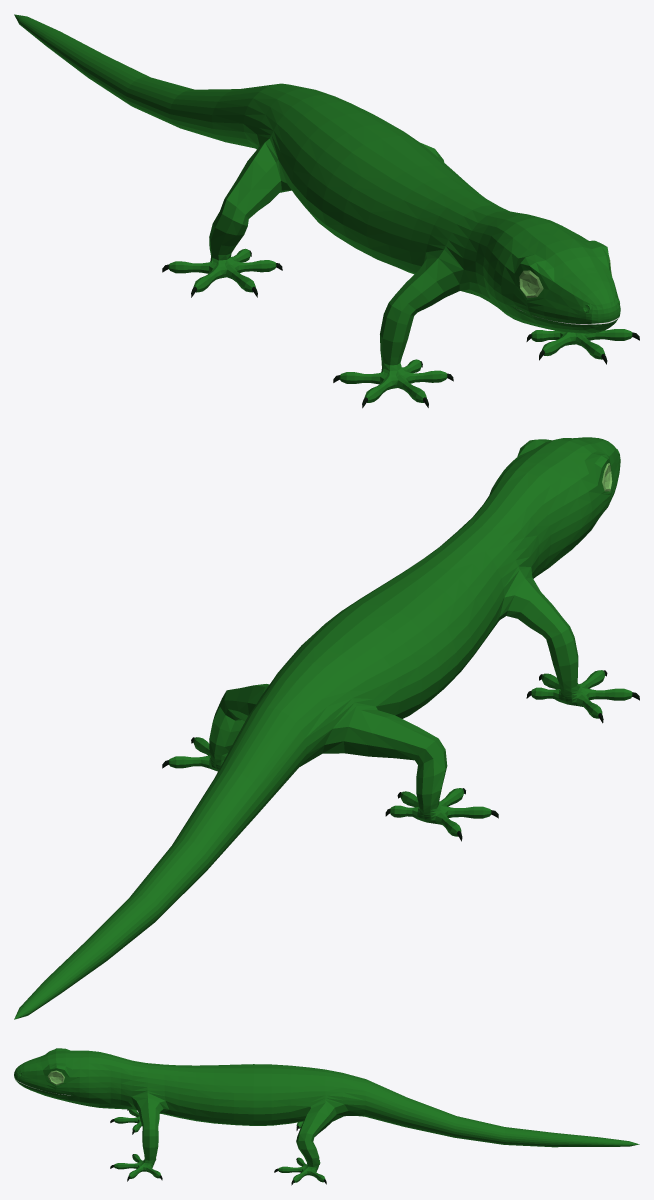
File: lizard_lizard.obj
The picture shows the model from 3 angles, top to bottom: view 1: azimuth 30°, elevation 25°; view 2: azimuth 150°, elevation 25°; view 3: azimuth 270°, elevation 25°; orthographic projection. The views are drawn at different scales.
Size of the model in its own units: 0.0606 by 0.0333 by 0.2032.
